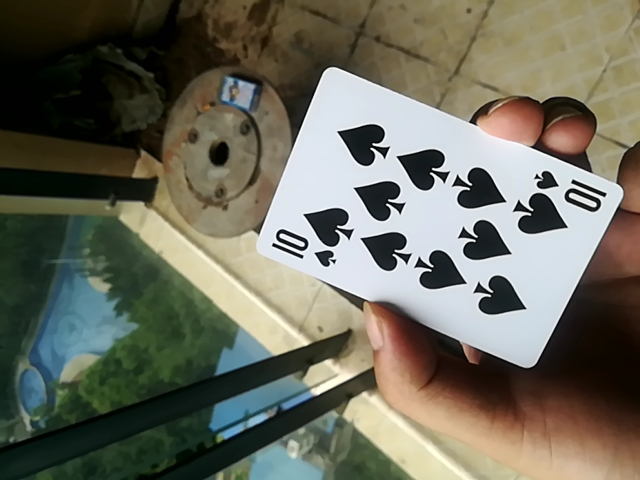ht 10: (253, 64, 625, 376)
